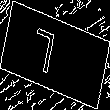L_S: (40, 26, 70, 84)
